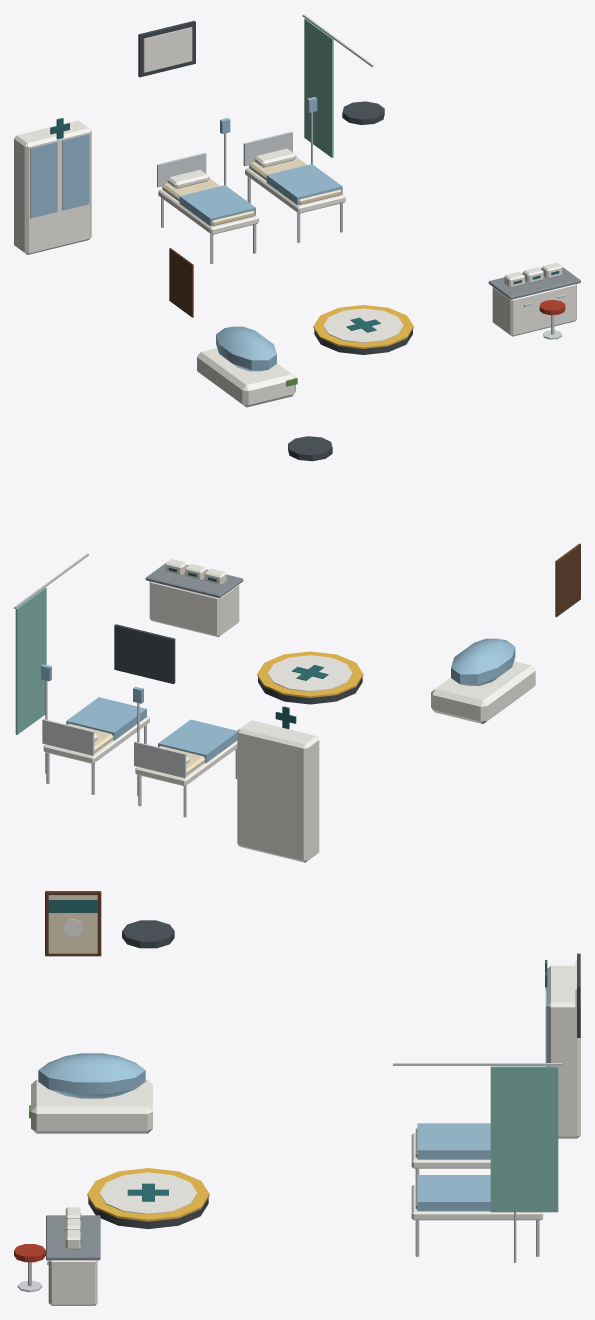
Rendered from Room_Medbay_L3.fbx.
3 views of the same model, one above another, from view 1: azimuth 30°, elevation 25°; view 2: azimuth 150°, elevation 25°; view 3: azimuth 270°, elevation 25° (orthographic). The views are drawn at different scales.
Parts seen in each view (by area): view 1: Decor, Cabinet1, DecorGlass, Pod1, Desk1, DecorGlass__, DecorNeon, Bed2, Bed1, RespawnPad; view 2: Decor, Cabinet1, Desk1, Pod1, DecorGlass__, Bed1, Bed2, RespawnPad; view 3: Decor, Pod1, Cabinet1, DecorGlass__, Desk1, Bed1, RespawnPad, Bed2.
Part boxes in pixels (x1,y1,x2,y2): Decor: (50, 14, 580, 348); Cabinet1: (14, 120, 91, 254); DecorGlass: (30, 134, 89, 218); Pod1: (197, 348, 295, 407); Desk1: (492, 284, 576, 336); DecorGlass__: (216, 326, 276, 371); DecorNeon: (143, 27, 297, 386); Bed2: (158, 189, 258, 234); Bed1: (245, 168, 345, 213); RespawnPad: (314, 329, 412, 354); Decor: (14, 436, 580, 817); Cabinet1: (237, 720, 319, 862); Desk1: (149, 581, 239, 637); Pod1: (431, 661, 535, 723); DecorGlass__: (451, 638, 515, 685); Bed1: (43, 716, 149, 763); Bed2: (135, 741, 237, 786); RespawnPad: (258, 677, 362, 704); Decor: (14, 891, 580, 1292); Pod1: (31, 1079, 152, 1133); Cabinet1: (547, 965, 580, 1138); DecorGlass__: (38, 1053, 145, 1098); Desk1: (48, 1260, 97, 1305); Bed1: (411, 1184, 543, 1220); RespawnPad: (88, 1198, 208, 1228); Bed2: (411, 1133, 490, 1168).
Size of the model in its own units: 29.15 by 16 by 30.15.
